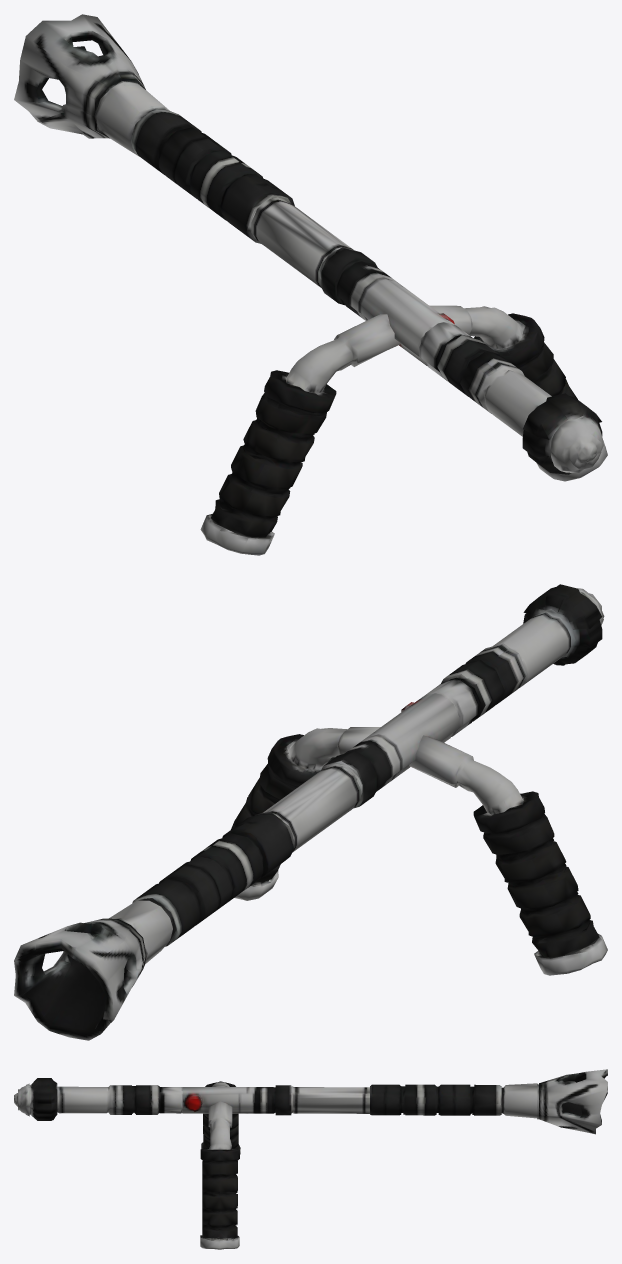
File: maris_tonfa.glb
The picture shows the model from 3 angles, top to bottom: view 1: azimuth 30°, elevation 25°; view 2: azimuth 150°, elevation 25°; view 3: azimuth 270°, elevation 25°; orthographic projection. The views are drawn at different scales.
Size of the model in its own units: 0.252 by 0.1465 by 0.5899.
Materials: 1 (1 with a texture image).
